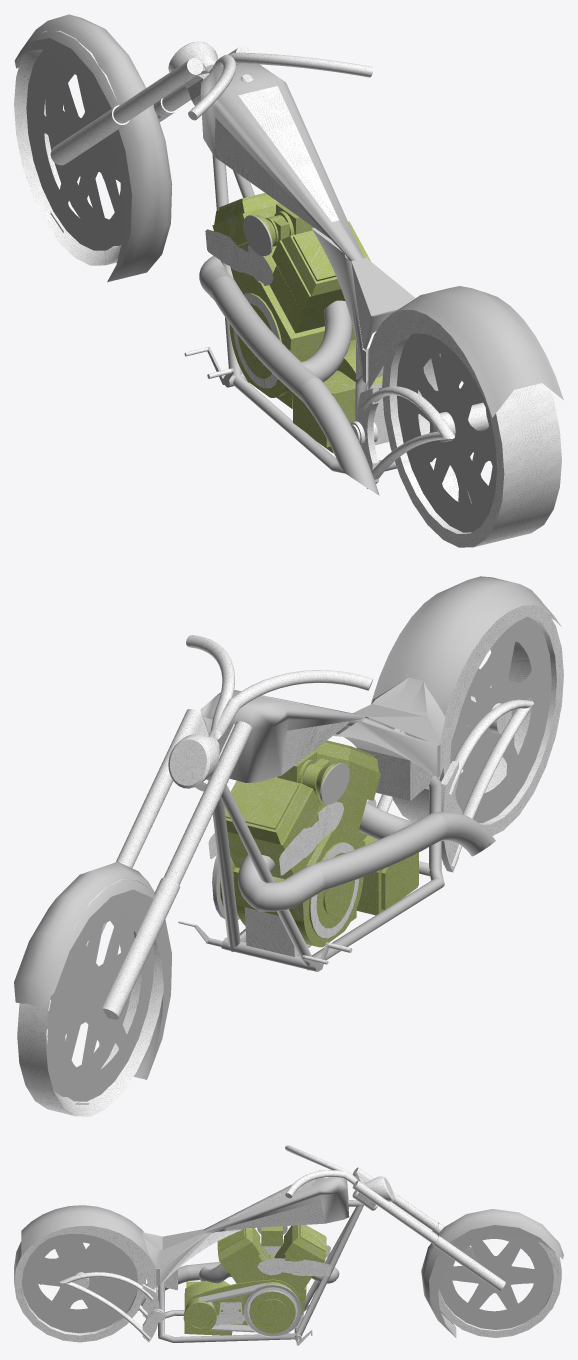
3 views of the same model, one above another, from view 1: azimuth 30°, elevation 25°; view 2: azimuth 150°, elevation 25°; view 3: azimuth 270°, elevation 25° (orthographic). The views are drawn at different scales.
Visible parts, largest first — view 1: mesh17_mesh17-geometry, mesh106_mesh106-geometry, mesh16_mesh16-geometry, mesh12_mesh12-geometry, mesh108_mesh108-geometry, mesh44_mesh44-geometry, mesh104_mesh104-geometry, mesh75_mesh75-geometry, mesh112_mesh112-geometry, mesh45_mesh45-geometry, mesh8_mesh8-geometry, mesh116_mesh116-geometry (+20 smaller); view 2: mesh16_mesh16-geometry, mesh17_mesh17-geometry, mesh12_mesh12-geometry, mesh108_mesh108-geometry, mesh75_mesh75-geometry, mesh104_mesh104-geometry, mesh112_mesh112-geometry, mesh8_mesh8-geometry, mesh106_mesh106-geometry, mesh44_mesh44-geometry, mesh5_mesh5-geometry, mesh21_mesh21-geometry (+20 smaller); view 3: mesh110_mesh110-geometry, mesh105_mesh105-geometry, mesh75_mesh75-geometry, mesh17_mesh17-geometry, mesh16_mesh16-geometry, mesh44_mesh44-geometry, mesh18_mesh18-geometry, mesh118_mesh118-geometry, mesh106_mesh106-geometry, mesh9_mesh9-geometry, mesh112_mesh112-geometry, mesh87_mesh87-geometry (+27 smaller).
Part boxes in pixels (x1,y1,x2,y2): mesh17_mesh17-geometry: (14,14,172,282); mesh106_mesh106-geometry: (382,335,561,547); mesh16_mesh16-geometry: (368,286,563,417); mesh12_mesh12-geometry: (199,256,379,495); mesh108_mesh108-geometry: (26,50,123,250); mesh44_mesh44-geometry: (200,64,363,260); mesh104_mesh104-geometry: (396,333,497,532); mesh75_mesh75-geometry: (229,281,389,453); mesh112_mesh112-geometry: (14,30,120,265); mesh45_mesh45-geometry: (238,86,338,221); mesh8_mesh8-geometry: (50,58,202,165); mesh116_mesh116-geometry: (403,337,485,511); mesh16_mesh16-geometry: (369,576,561,779); mesh17_mesh17-geometry: (14,862,171,1079); mesh12_mesh12-geometry: (238,802,495,911); mesh108_mesh108-geometry: (47,913,154,1101); mesh75_mesh75-geometry: (212,829,418,956); mesh104_mesh104-geometry: (450,616,551,822); mesh112_mesh112-geometry: (17,879,163,1116); mesh8_mesh8-geometry: (102,721,252,1019); mesh106_mesh106-geometry: (392,615,563,835); mesh44_mesh44-geometry: (200,690,365,782); mesh5_mesh5-geometry: (333,718,440,800); mesh21_mesh21-geometry: (220,730,444,970); mesh110_mesh110-geometry: (439,1234,553,1329); mesh105_mesh105-geometry: (22,1233,137,1333); mesh75_mesh75-geometry: (183,1254,306,1337); mesh17_mesh17-geometry: (421,1209,563,1337); mesh16_mesh16-geometry: (21,1205,156,1288); mesh44_mesh44-geometry: (203,1170,349,1232); mesh18_mesh18-geometry: (158,1204,363,1342); mesh118_mesh118-geometry: (32,1235,130,1323); mesh106_mesh106-geometry: (14,1238,145,1342); mesh9_mesh9-geometry: (352,1180,505,1290); mesh112_mesh112-geometry: (438,1241,561,1337); mesh87_mesh87-geometry: (249,1291,295,1333).
Size of the model in its own units: 0.1938 by 0.3178 by 0.9281.
